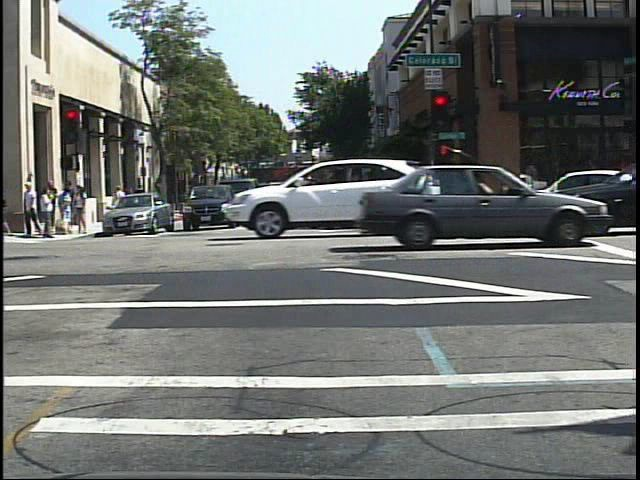person: (109, 181, 128, 225)
